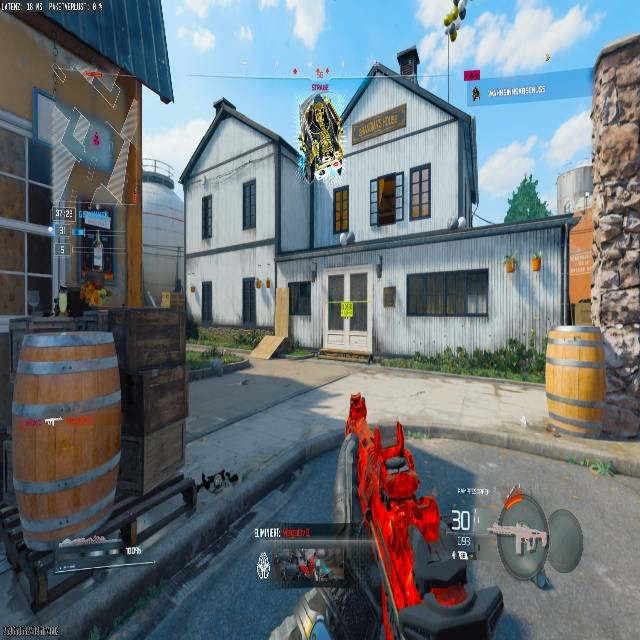player: (299, 87, 345, 180)
